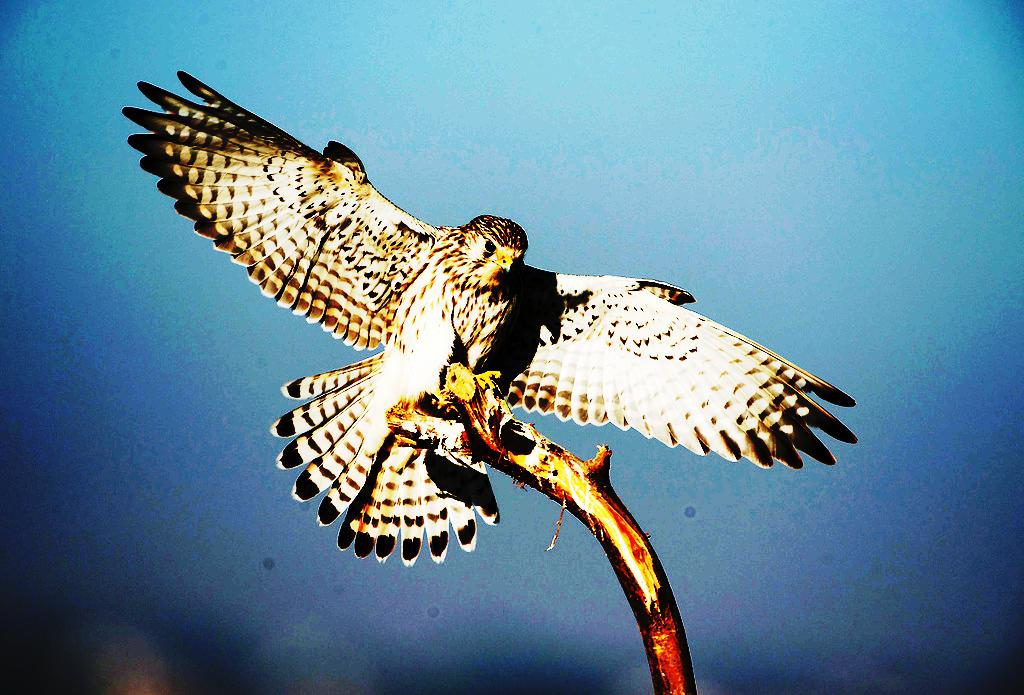Owl: (122, 70, 858, 566)
